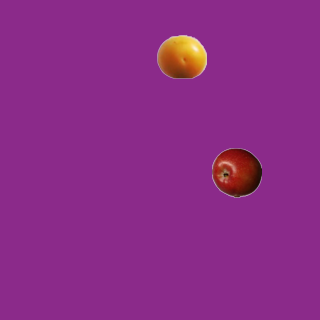Apple Braeburn: (211, 147, 261, 197)
Cherry Wax Yellow: (156, 31, 206, 81)
